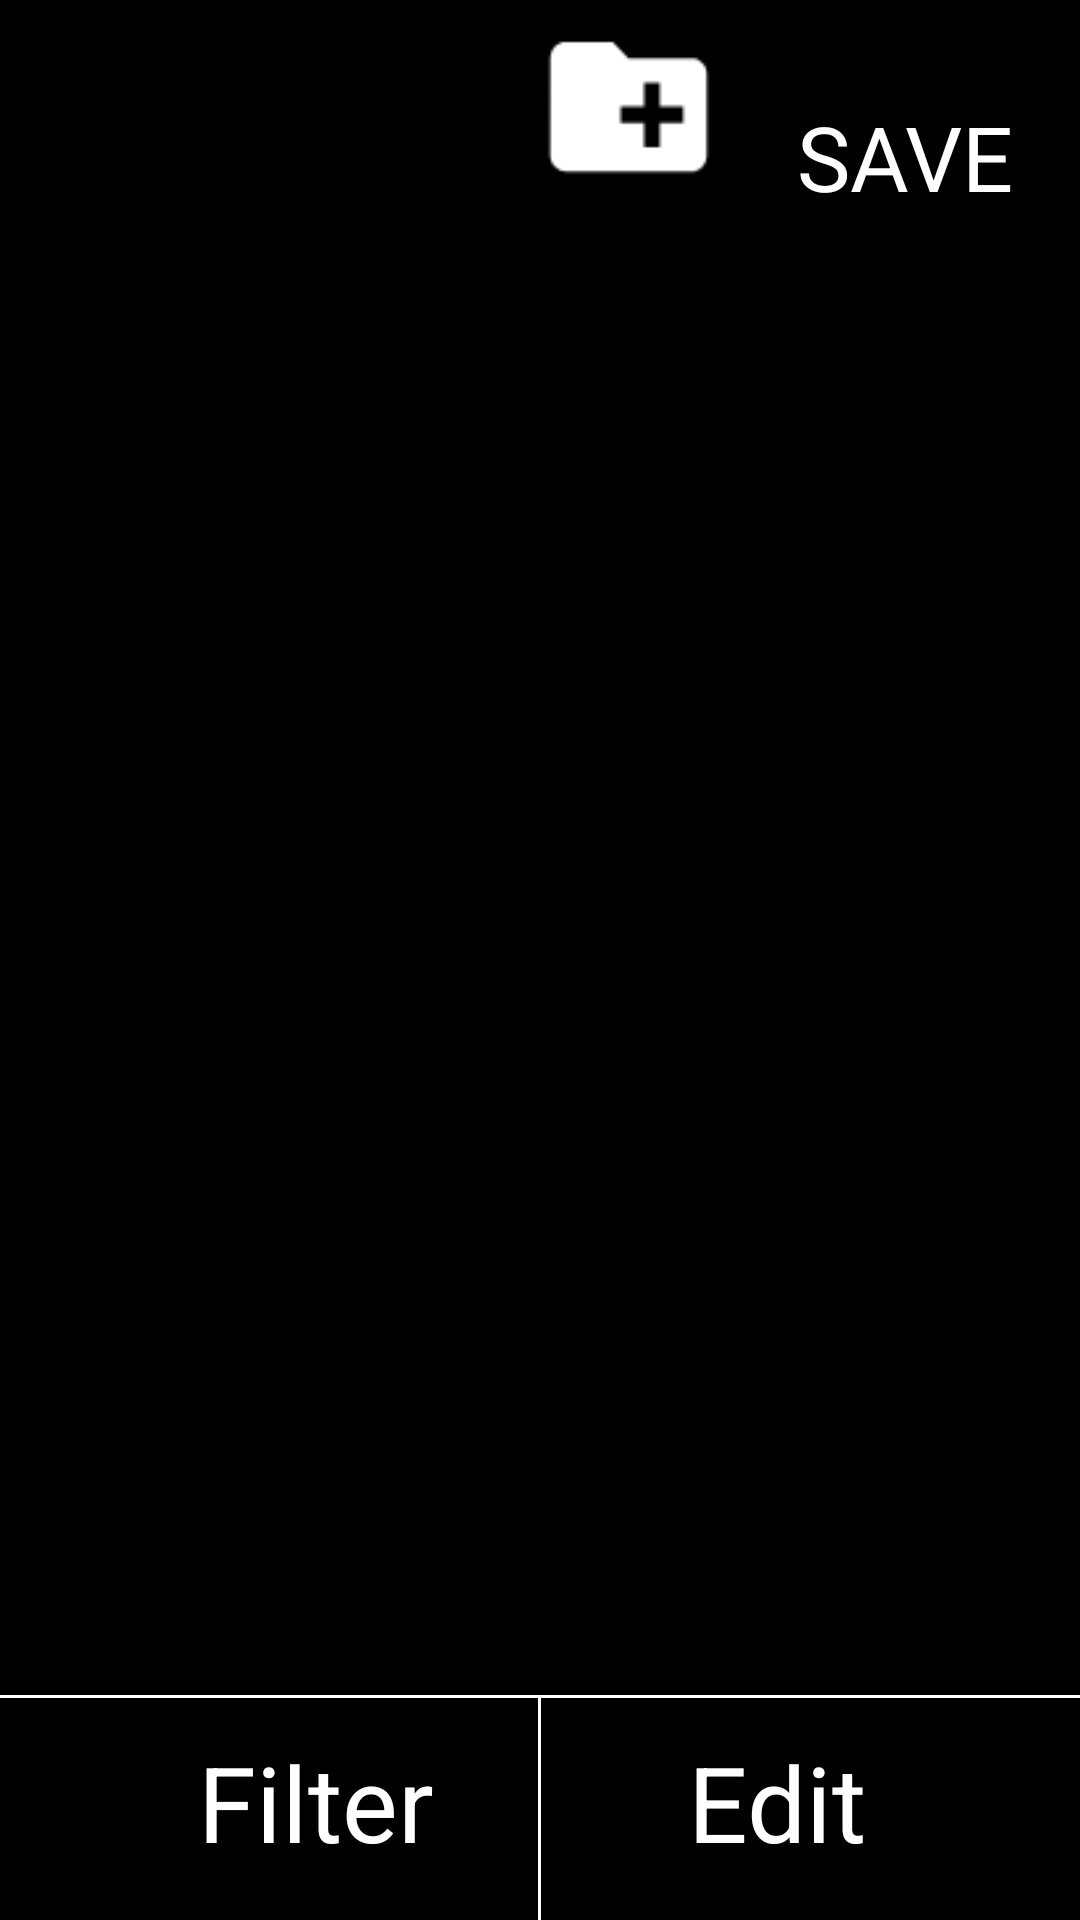

Icon bounding boxes for this 1080*1920 phone screenshot, format (x1, y1, x2, y2):
newfolder: (548, 41, 709, 174)
